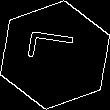L_E: (26, 36, 84, 74)
